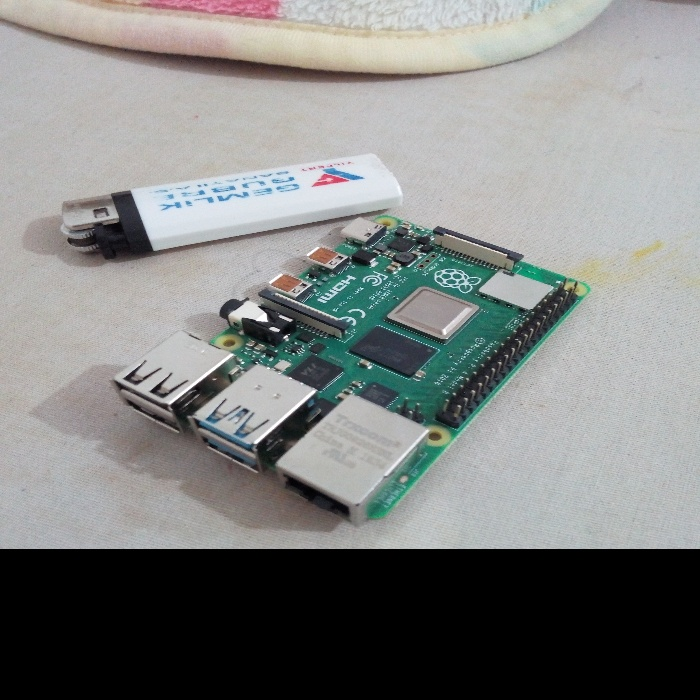raspberry: (105, 202, 609, 522)
